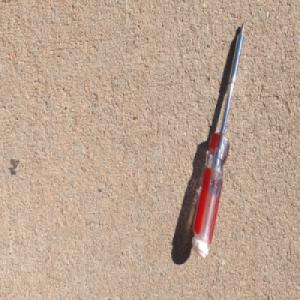Screwdriver: (190, 21, 246, 260)
